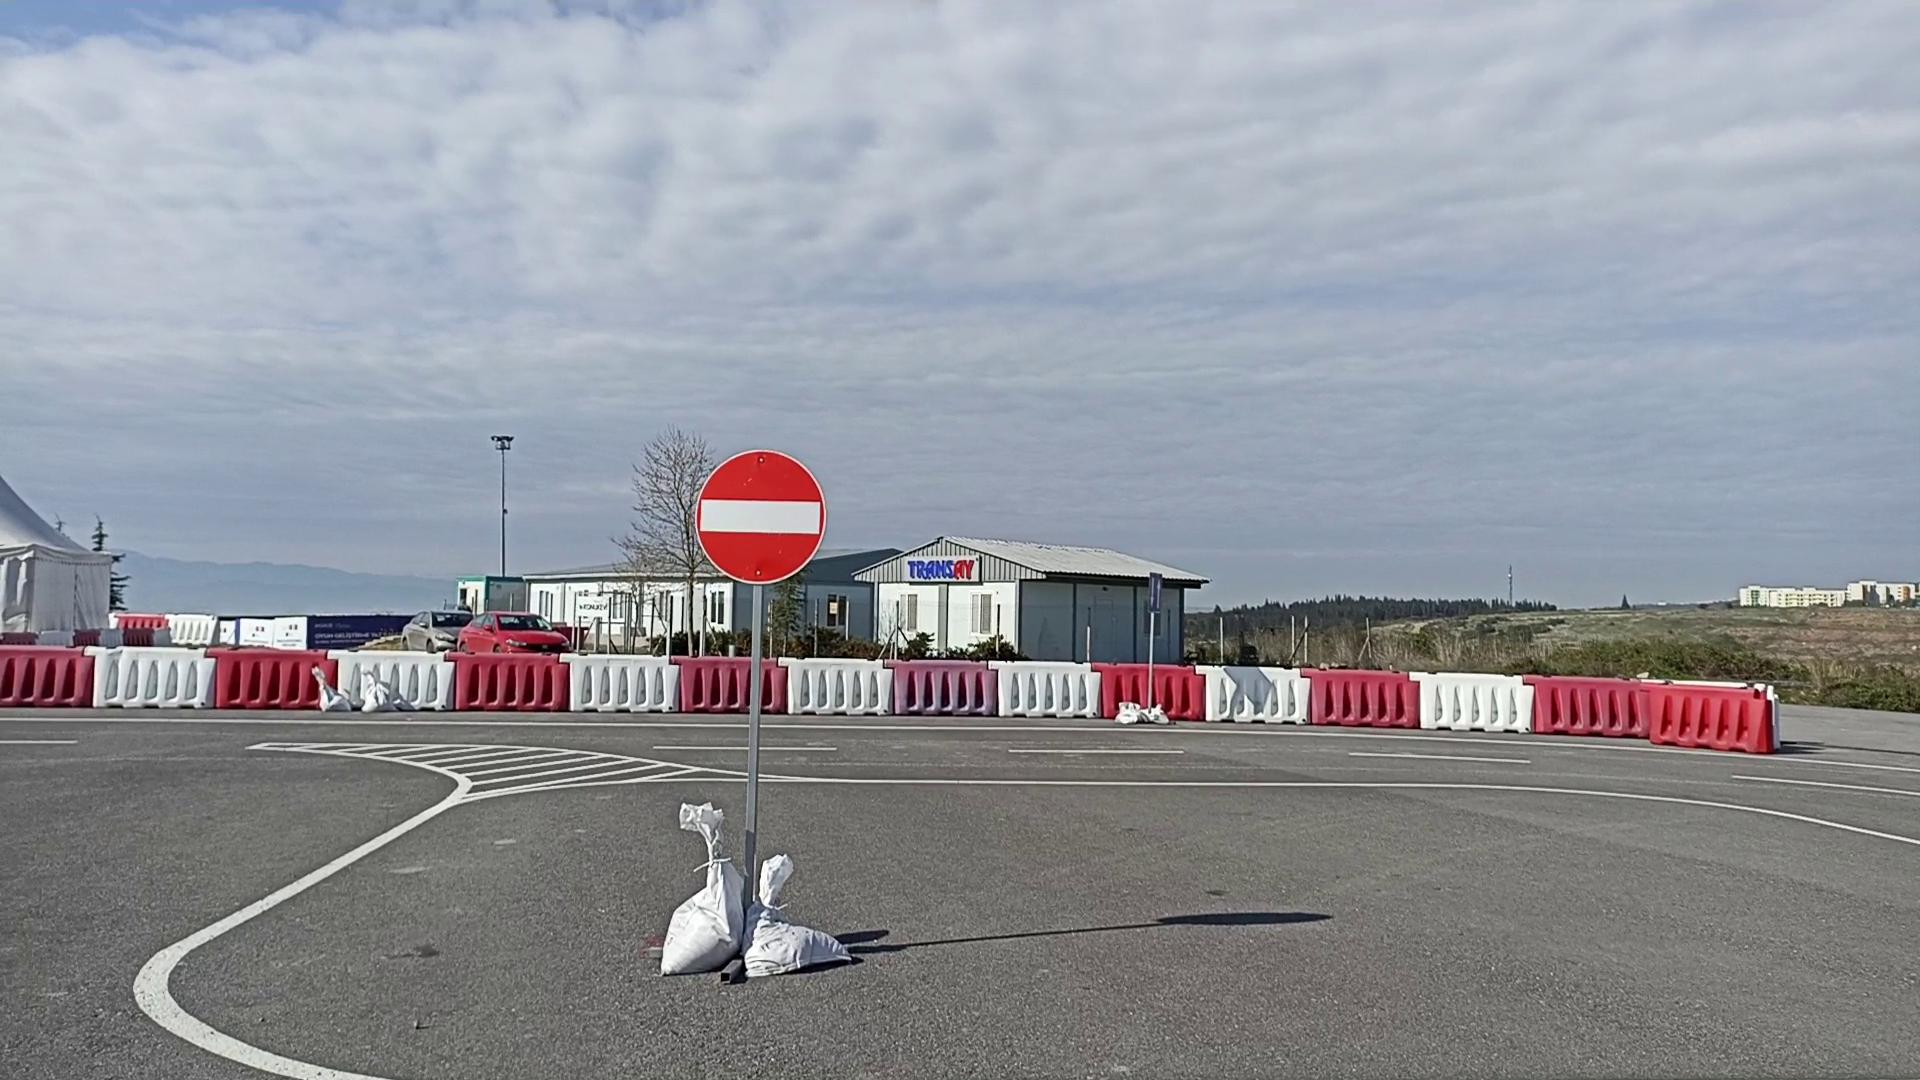noentryway: (694, 448, 829, 584)
